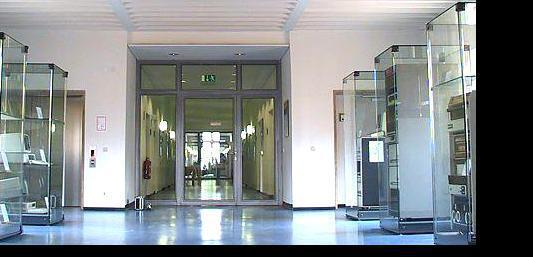Puerta: (179, 96, 242, 205)
